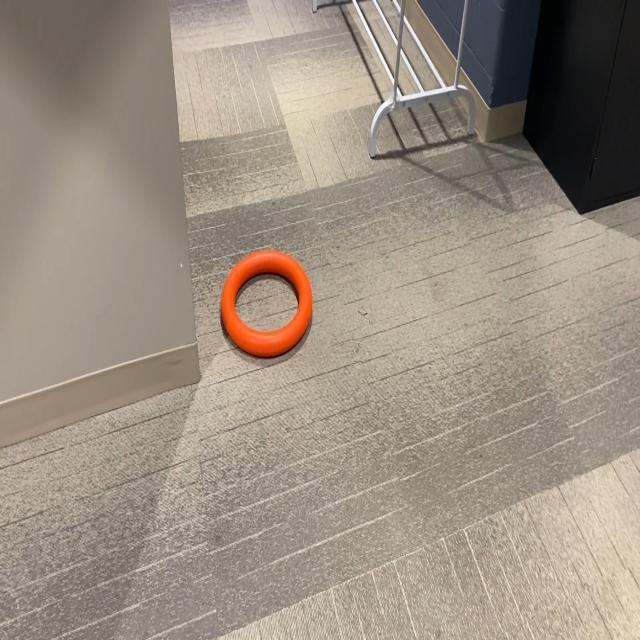note: (218, 248, 312, 356)
